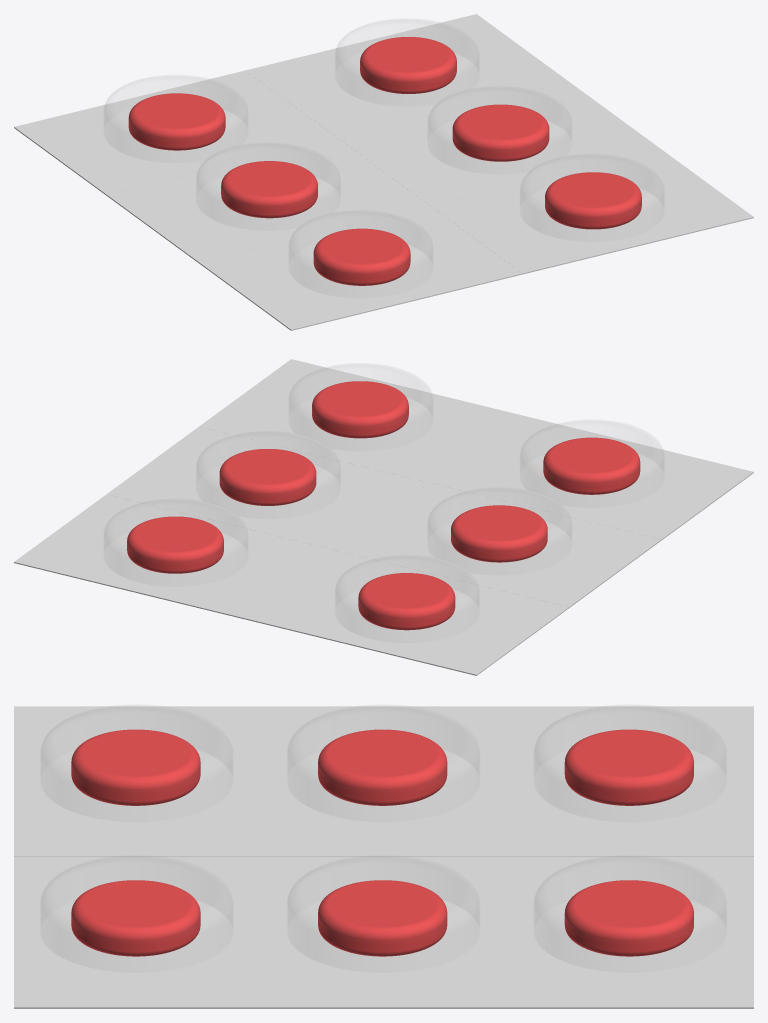
Rendered from Round_Pill_2x3_Red.glb.
The picture shows the model from 3 angles, top to bottom: view 1: azimuth 30°, elevation 25°; view 2: azimuth 150°, elevation 25°; view 3: azimuth 270°, elevation 25°; orthographic projection. The views are drawn at different scales.
Parts seen in each view (by area): view 1: Round_Pill_Base_2x3, Round_Pill_2x3, Round_Pill_Shell_2x3, Round_Pill_Lid_2x3; view 2: Round_Pill_Base_2x3, Round_Pill_2x3, Round_Pill_Lid_2x3, Round_Pill_Shell_2x3; view 3: Round_Pill_Base_2x3, Round_Pill_2x3, Round_Pill_Shell_2x3, Round_Pill_Lid_2x3.
Boxes of the visible parts, <box> form: Round_Pill_Base_2x3: <box>14,14,753,330</box>; Round_Pill_2x3: <box>128,37,641,285</box>; Round_Pill_Shell_2x3: <box>104,19,663,264</box>; Round_Pill_Lid_2x3: <box>103,51,664,298</box>; Round_Pill_Base_2x3: <box>14,359,753,675</box>; Round_Pill_2x3: <box>127,381,640,630</box>; Round_Pill_Lid_2x3: <box>103,397,664,643</box>; Round_Pill_Shell_2x3: <box>104,363,663,609</box>; Round_Pill_Base_2x3: <box>14,706,753,1008</box>; Round_Pill_2x3: <box>71,729,693,956</box>; Round_Pill_Shell_2x3: <box>41,705,725,928</box>; Round_Pill_Lid_2x3: <box>40,749,726,972</box>.
Size of the model in its own units: 6.8 by 0.4541 by 7.06.
